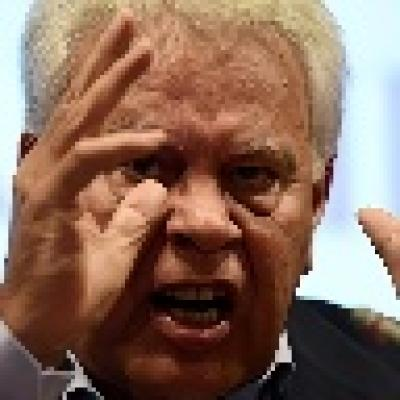angry: (60, 27, 306, 374)
